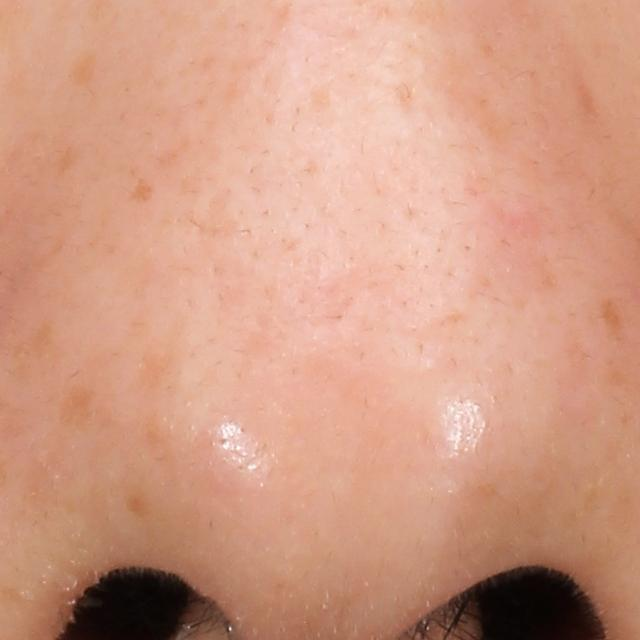melasma: (596, 289, 629, 342), (66, 46, 100, 94), (59, 142, 86, 173), (127, 177, 154, 205)
